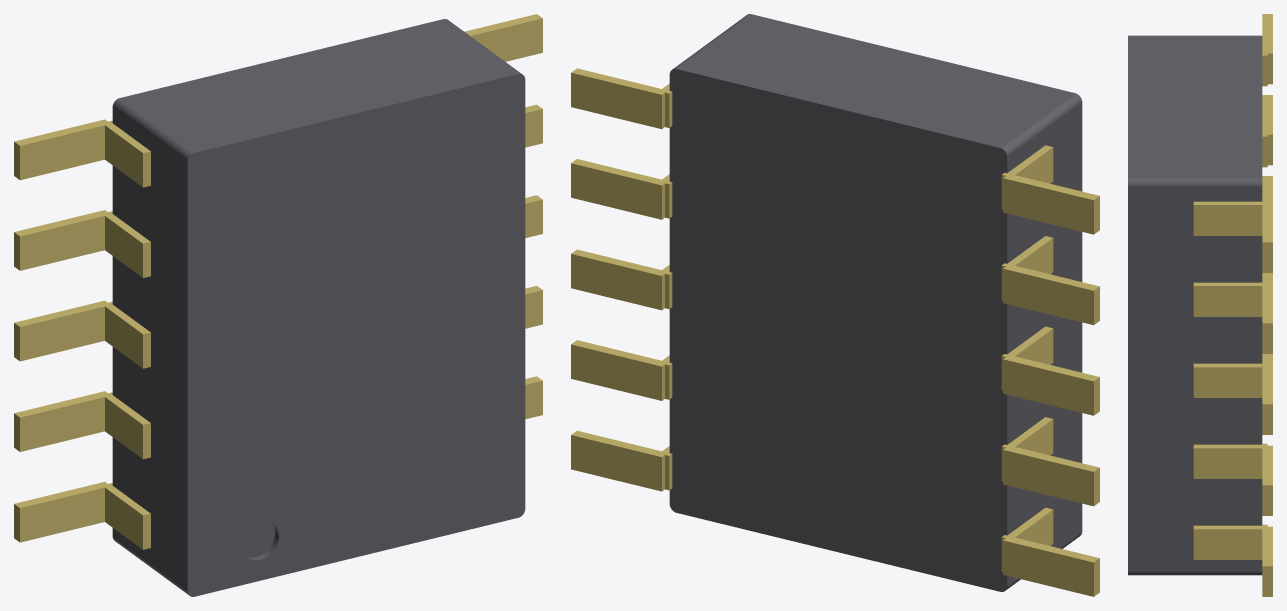
3 renders of one model, left to right at view 1: azimuth 30°, elevation 25°; view 2: azimuth 150°, elevation 25°; view 3: azimuth 270°, elevation 25°, orthographic. The views are drawn at different scales.
Visible parts, largest first — view 1: extra, pins; view 2: extra, pins; view 3: extra, pins.
Boxes of the visible parts, box(x1,y1,x2,y2) form: extra: box(112, 19, 525, 596); pins: box(14, 14, 542, 549); extra: box(669, 14, 1082, 591); pins: box(571, 68, 1099, 596); extra: box(1128, 35, 1262, 575); pins: box(1193, 14, 1272, 596).
Size of the model in its own units: 6.04 by 4.9 by 1.62.
